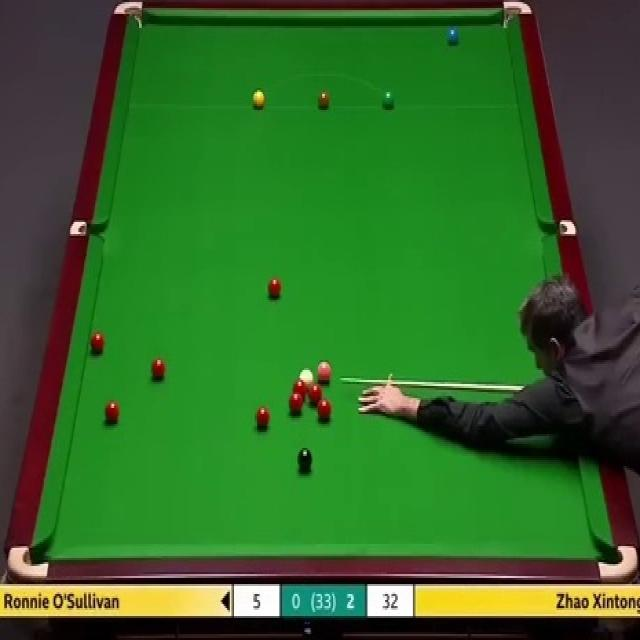pocket: (596, 538, 637, 584), (5, 546, 48, 582), (500, 2, 534, 29), (112, 0, 142, 28), (540, 221, 577, 237), (69, 220, 104, 234)
